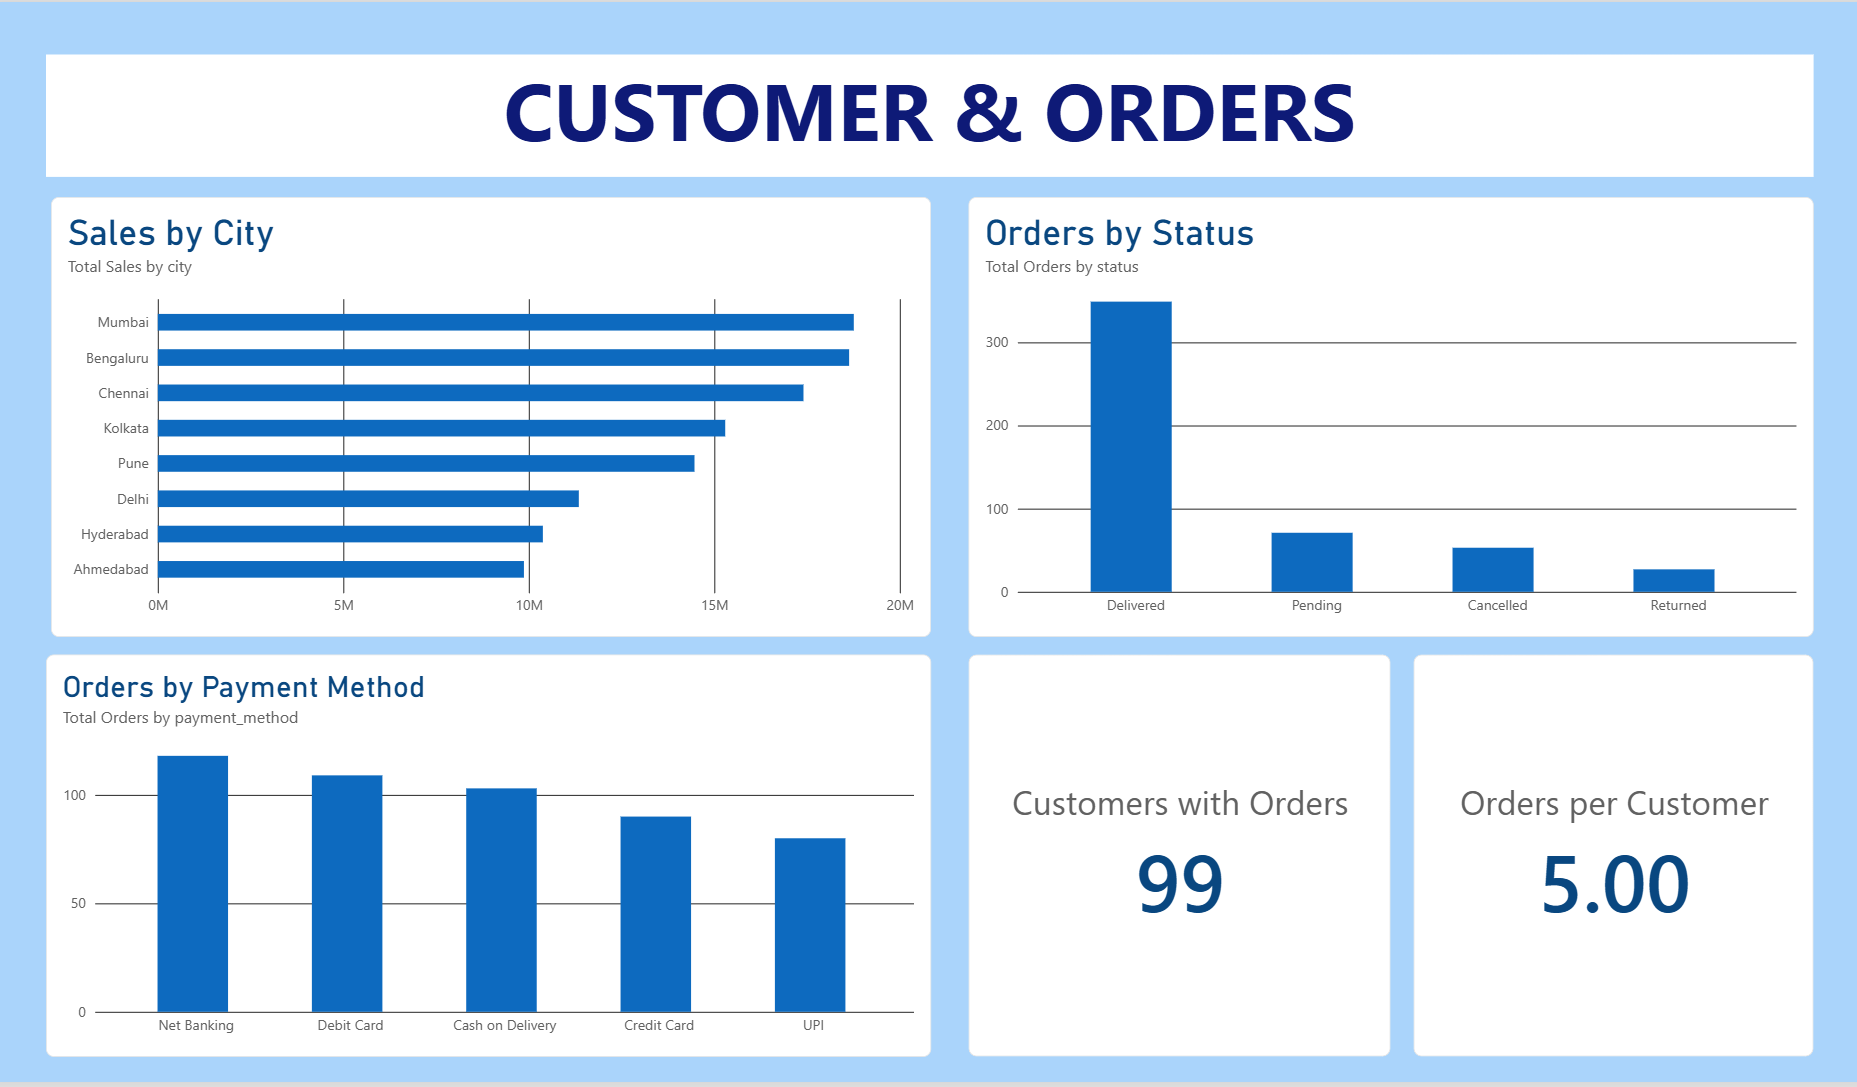

This screenshot's page, from the dashboard's own definition file:
{"tool":"powerbi","page":{"name":"Customer & Orders","canvas":[1920,1080],"ordinal":2},"visuals":[{"type":"clusteredBarChart","title":"Sales by City","fields":{"Category":["customers.city"],"Y":["Table.Total Sales"]},"box":[85,195,880,440],"z":0},{"type":"clusteredColumnChart","title":"Orders by Status","fields":{"Category":["orders.status"],"Y":["Table.Total Orders"]},"box":[1002.5,195,845,440],"z":1000},{"type":"clusteredColumnChart","title":"Orders by Payment Method","fields":{"Category":["orders.payment_method"],"Y":["Table.Total Orders"]},"box":[80,652.5,885,402.5],"z":2000},{"type":"textbox","box":[80,52.5,1767.5,122.5],"z":2001},{"type":"cardVisual","fields":{"Data":["Table.Customers with Orders"]},"box":[1002.5,652.5,422.5,402.5],"z":2002},{"type":"cardVisual","fields":{"Data":["Table.Orders per Customer"]},"box":[1447.5,652.5,400,402.5],"z":2003}]}

Visuals, with their boxes on the page's 1920x1080 design canvas (x1, y1, x2, y2). These are canvas units, not pixel positions in the 1857x1087 screenshot, which may show the page scaled, cropped or inside an application window:
"Sales by City" clusteredBarChart: bbox=(85, 195, 965, 635)
"Orders by Status" clusteredColumnChart: bbox=(1002, 195, 1848, 635)
"Orders by Payment Method" clusteredColumnChart: bbox=(80, 652, 965, 1055)
textbox: bbox=(80, 52, 1848, 175)
cardVisual - Table.Customers with Orders: bbox=(1002, 652, 1425, 1055)
cardVisual - Table.Orders per Customer: bbox=(1448, 652, 1848, 1055)
